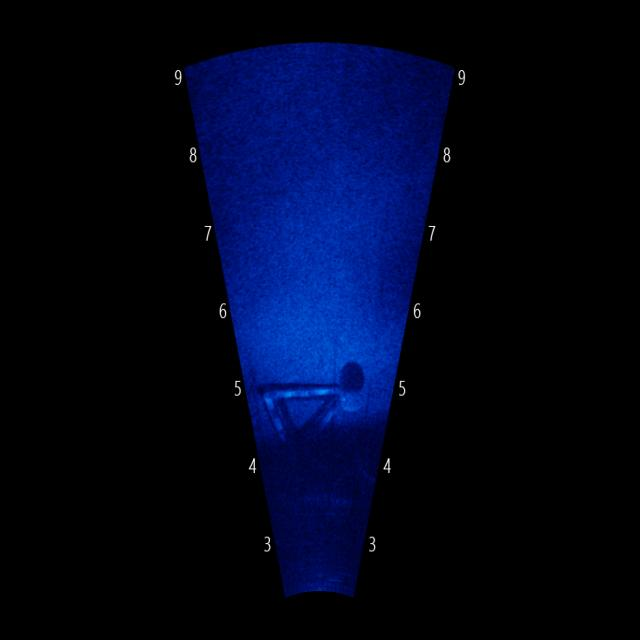triangle: (250, 359, 360, 463)
